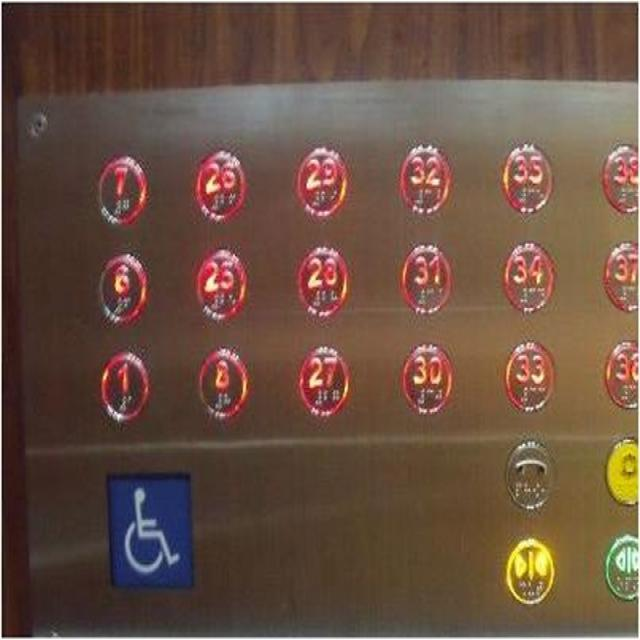1: (99, 351, 150, 421)
25: (194, 244, 246, 325)
26: (192, 145, 246, 223)
27: (296, 342, 351, 418)
28: (294, 241, 349, 319)
29: (293, 141, 347, 219)
30: (398, 337, 455, 415)
31: (398, 240, 453, 315)
32: (397, 138, 452, 218)
33: (502, 340, 556, 413)
34: (502, 238, 556, 314)
35: (500, 138, 554, 214)
6: (96, 250, 148, 326)
7: (94, 151, 148, 228)
8: (194, 344, 252, 420)
CH: (105, 468, 196, 597)
alarm: (605, 436, 639, 504)
call: (502, 435, 556, 512)
close: (502, 532, 556, 604)
open: (602, 530, 639, 598)
